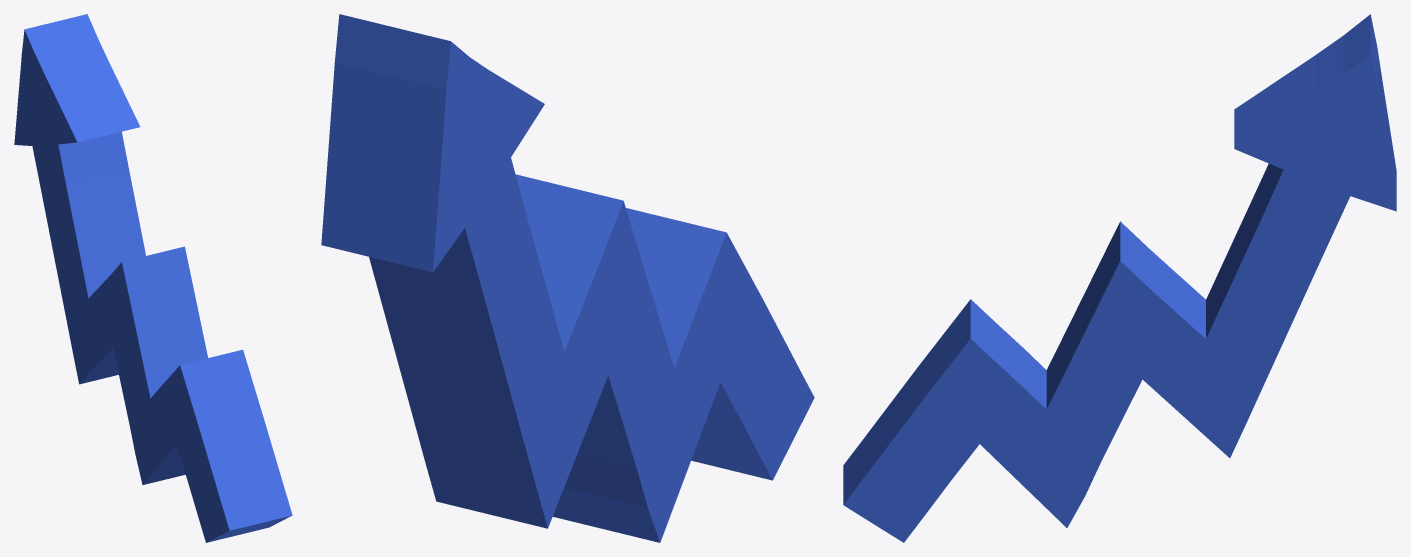
Rendered from Stock_v4.fbx.
The picture shows the model from 3 angles, left to right: view 1: azimuth 30°, elevation 25°; view 2: azimuth 150°, elevation 25°; view 3: azimuth 270°, elevation 25°; orthographic projection. The views are drawn at different scales.
Parts seen in each view (by area): view 1: Plane; view 2: Plane; view 3: Plane.
Part boxes in pixels (left/top/right/bottom): Plane: left=14, top=14, right=292, bottom=542; Plane: left=321, top=14, right=814, bottom=542; Plane: left=843, top=14, right=1396, bottom=542.
Bounding box in the file's own units: 50.51 × 292 × 299.
